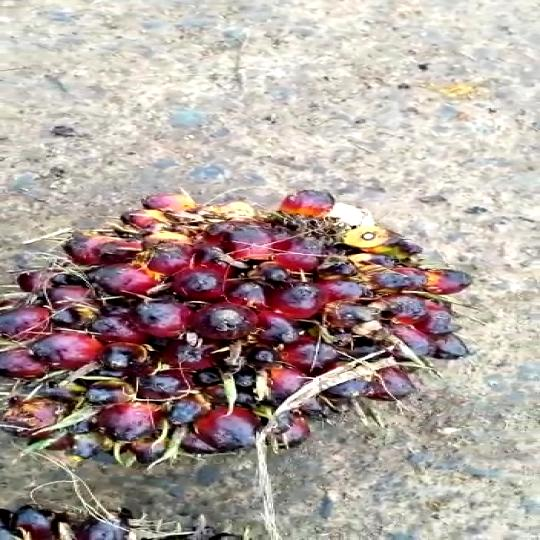kurang masak: (0, 161, 483, 476)
